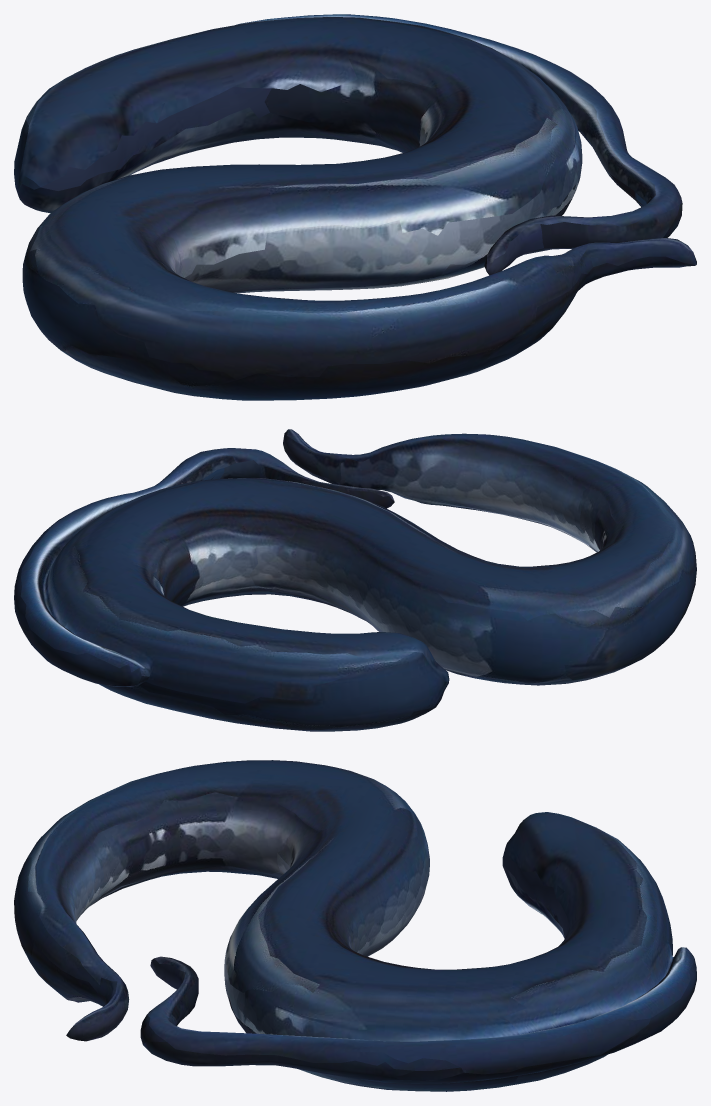
Rendered from fish_halo_eel.glb.
3 renders of one model, top to bottom at view 1: azimuth 30°, elevation 25°; view 2: azimuth 150°, elevation 25°; view 3: azimuth 270°, elevation 25°, orthographic. The views are drawn at different scales.
Visible parts, largest first — view 1: fish_halo_eel; view 2: fish_halo_eel; view 3: fish_halo_eel.
Part boxes in pixels (bbox=[...]): fish_halo_eel: bbox=[14, 14, 696, 400]; fish_halo_eel: bbox=[14, 429, 696, 731]; fish_halo_eel: bbox=[14, 760, 696, 1091].
Size of the model in its own units: 0.983 by 0.1725 by 1.
Materials: 1 (1 with a texture image).
